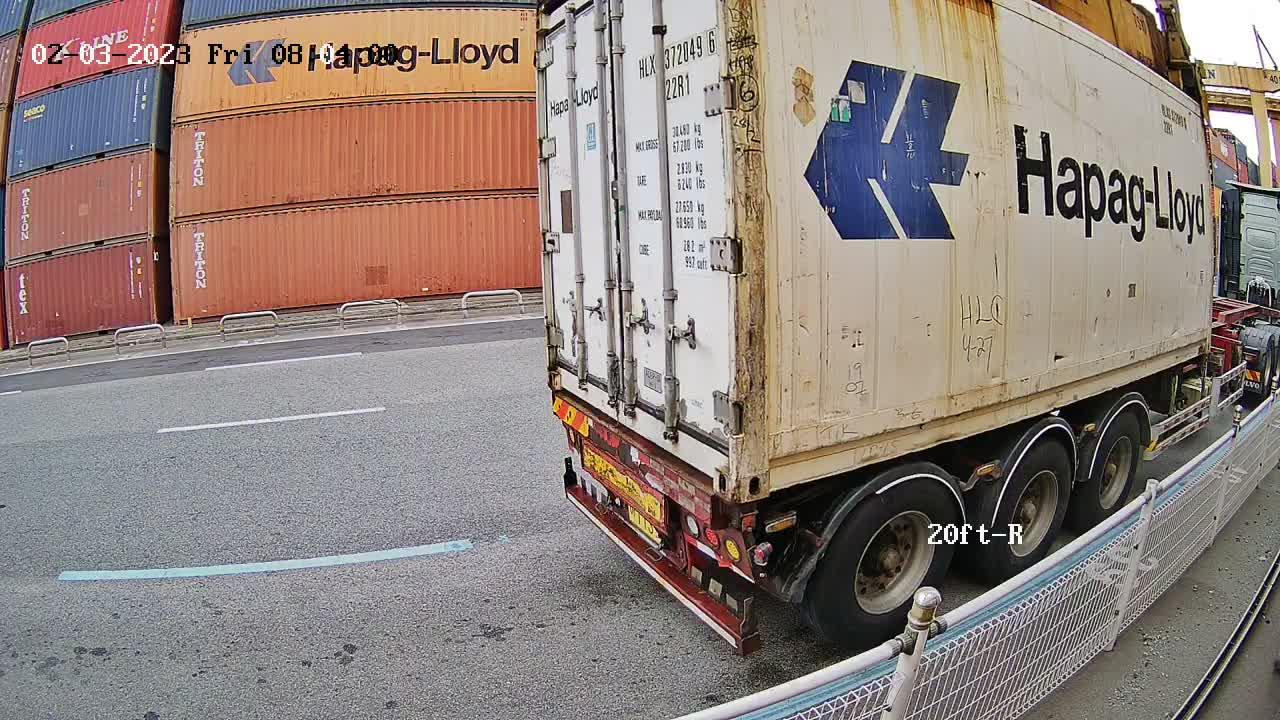Chassis: (551, 393, 727, 527)
Cone: (727, 500, 759, 531)
Hole_L: (735, 432, 794, 501), (547, 349, 578, 401)
Hole_R: (697, 420, 737, 501)
Tire: (814, 478, 958, 655), (997, 442, 1072, 576), (1086, 414, 1141, 519)
